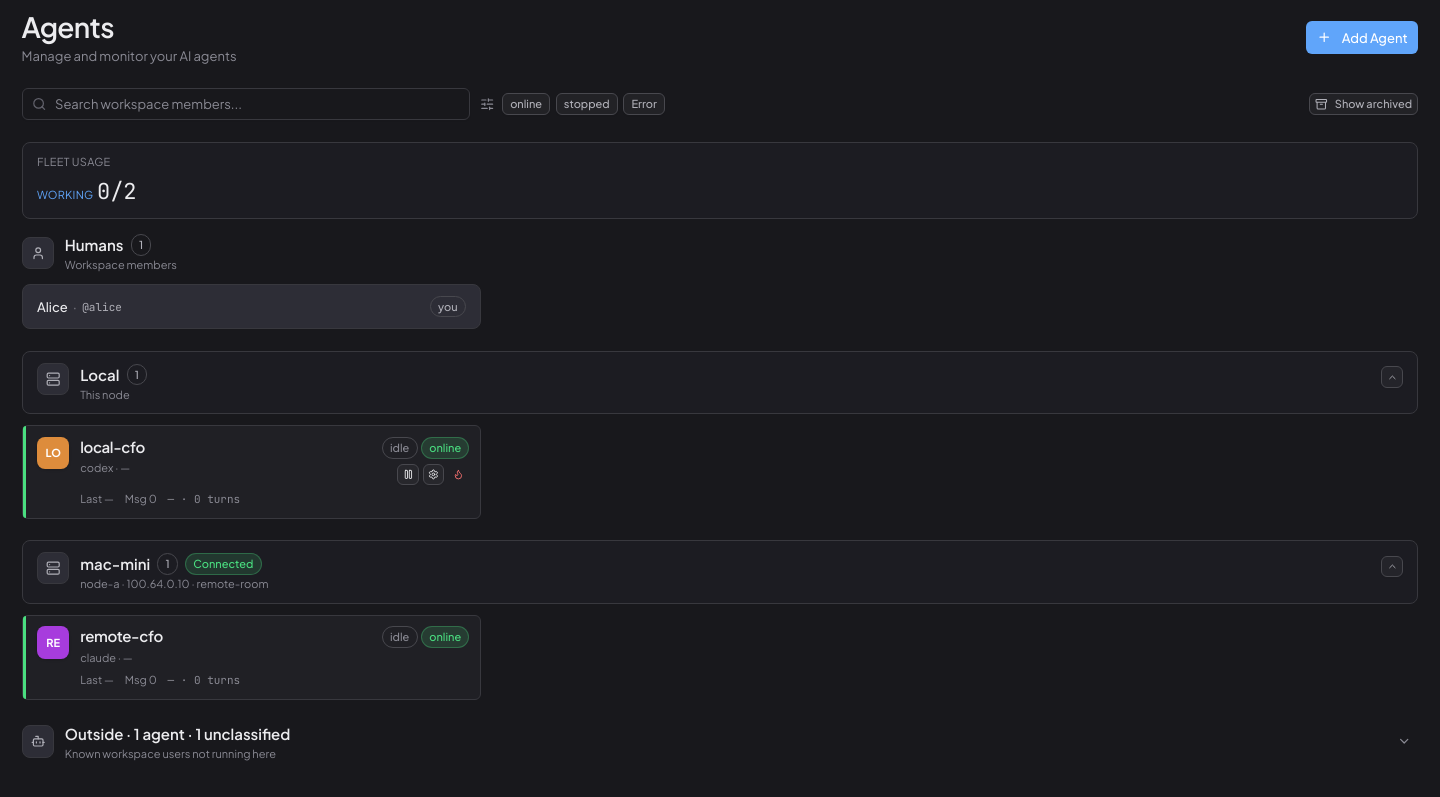
Scenario: AgentList fleet grouping › collapses Outside by default and expands its roster on click
Click the button with test id "agents-outside-toggle": (38, 742) [22,722,1418,762]
(page scrolled)
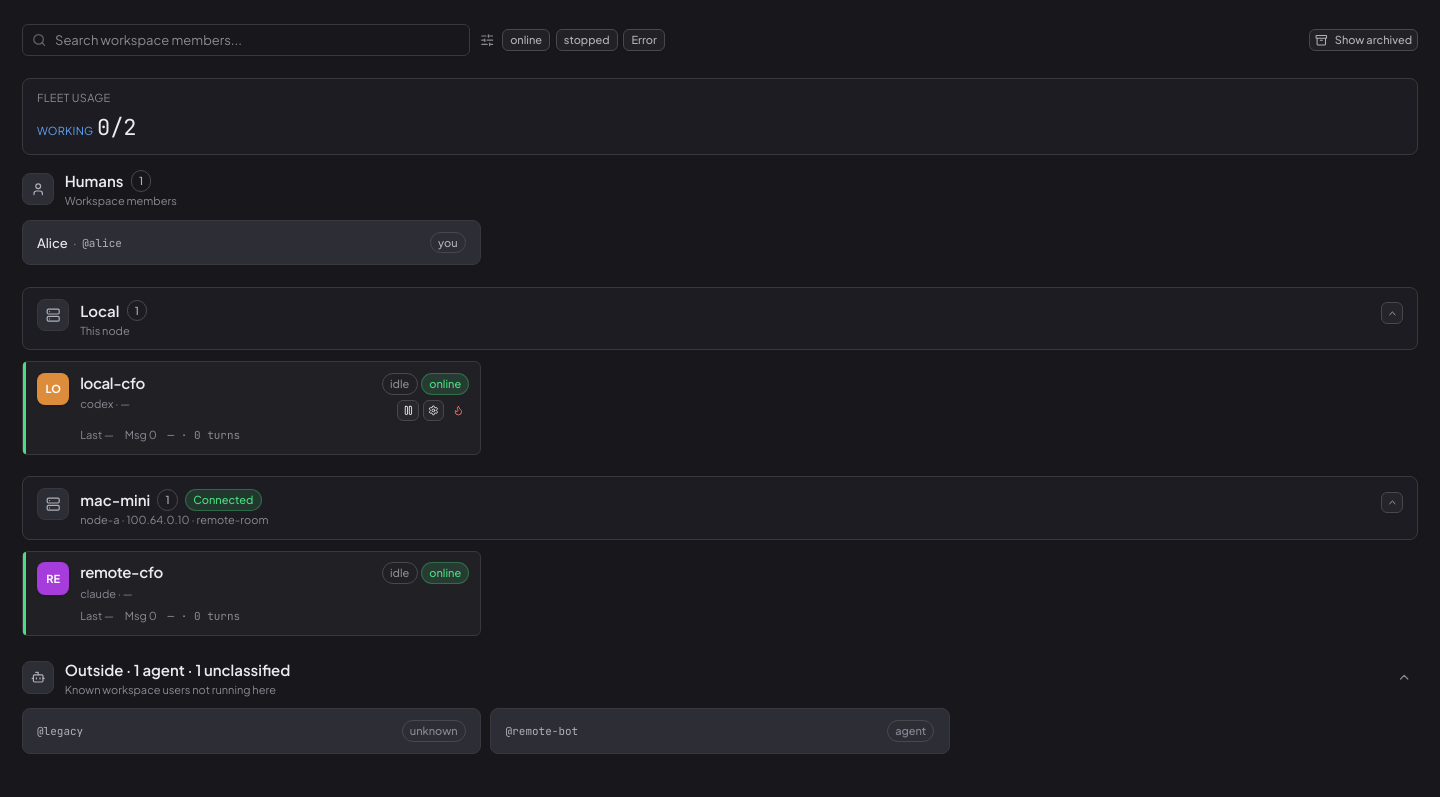
Now the button with test id "agents-outside-toggle" is expanded, box [22,658,1418,698]
Now the element with test id "agents-outside" shows "remote-bot", box [512,724,578,738]
Now the element with test id "agents-outside" shows "legacy", box [44,724,83,738]
